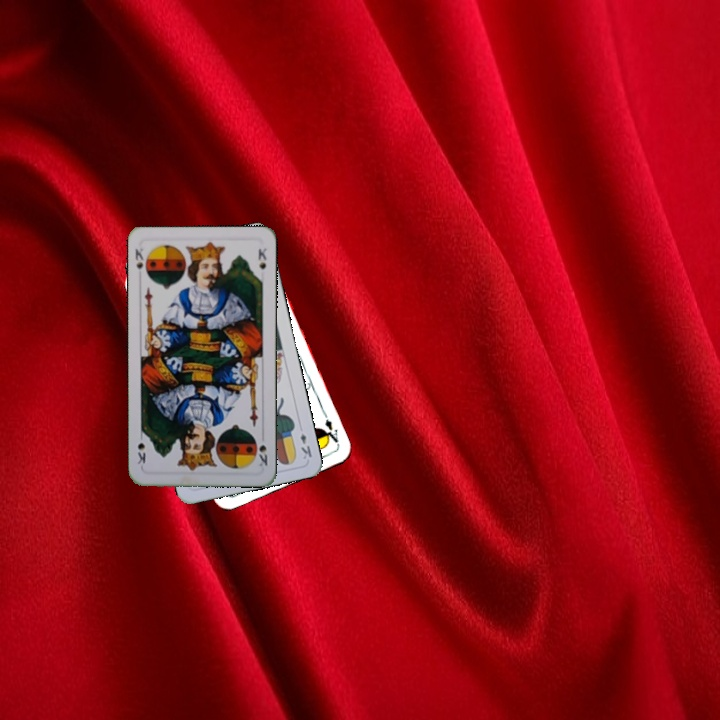EA: (318, 415, 341, 446)
EK: (296, 429, 314, 462)
SK: (254, 441, 270, 468), (131, 244, 146, 271)
